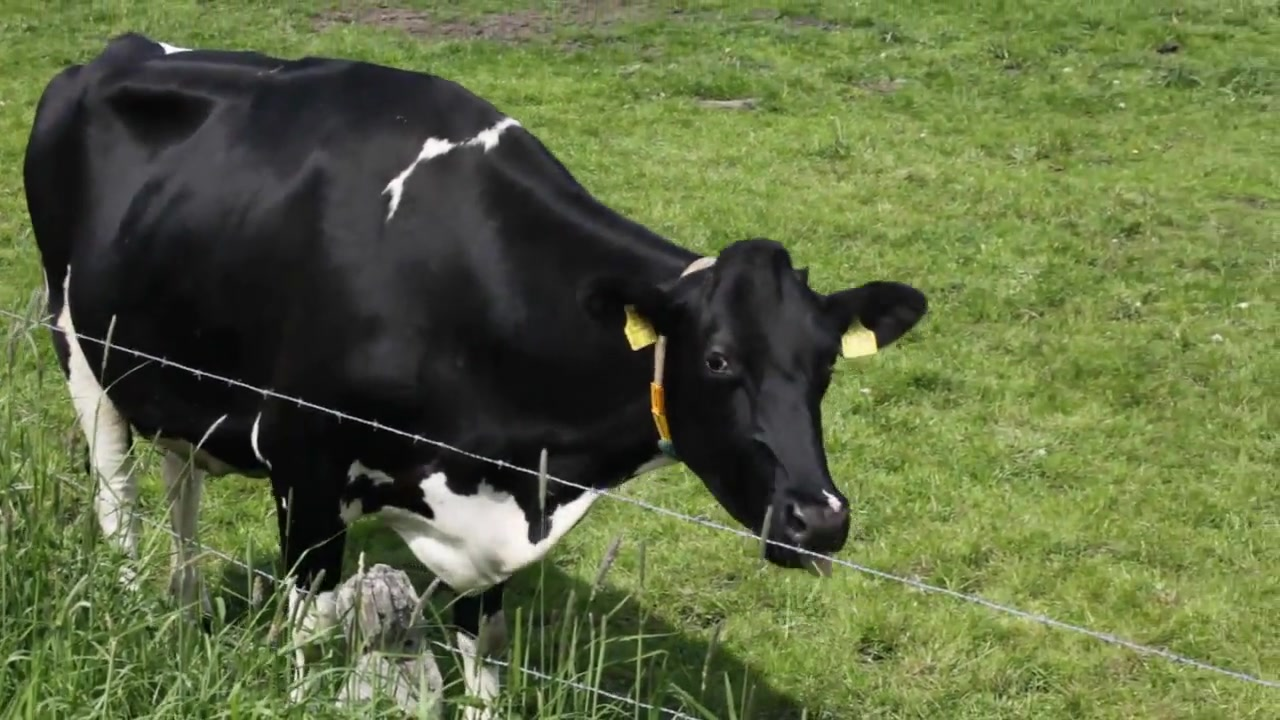cow: (22, 32, 935, 691)
